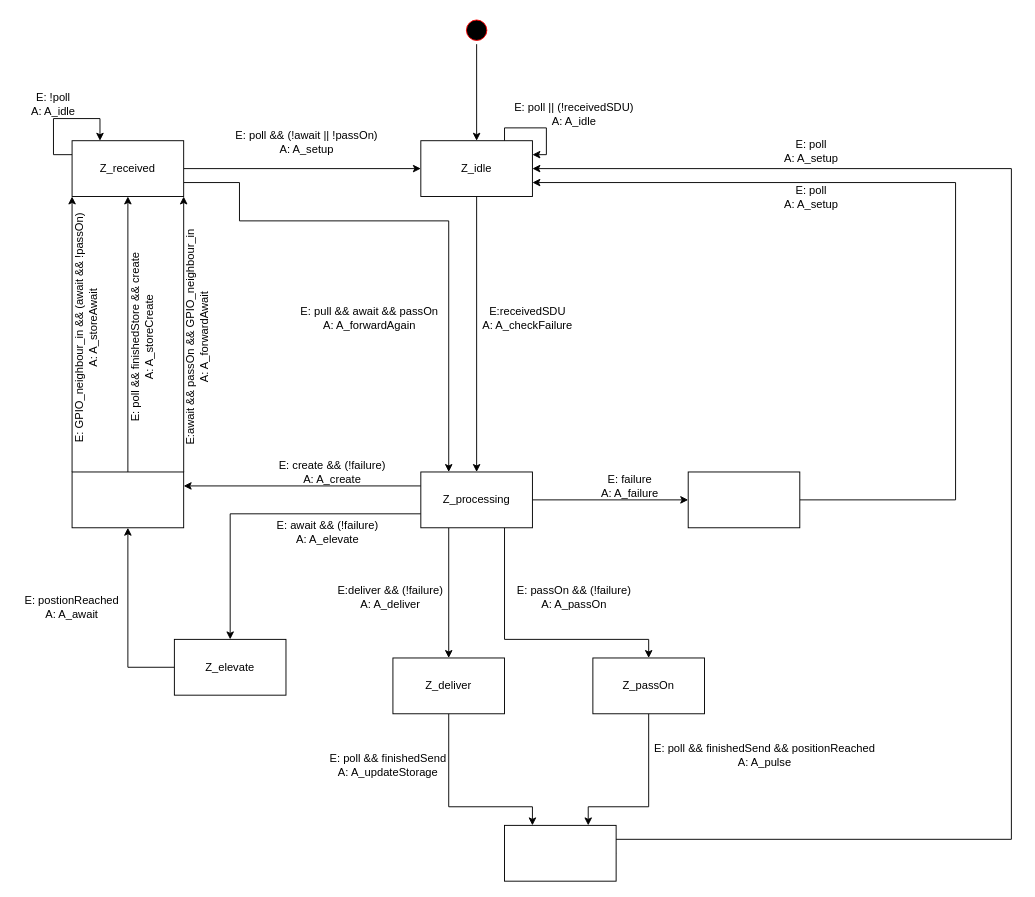
This 1035x897 diagram has some shape labels left out. Here are the shapes that lost their labels. From the top down, the centre of each, then its label:
(x=127, y=499): Z_awaiting
(x=743, y=499): Z_failure
(x=560, y=852): Z_sent
